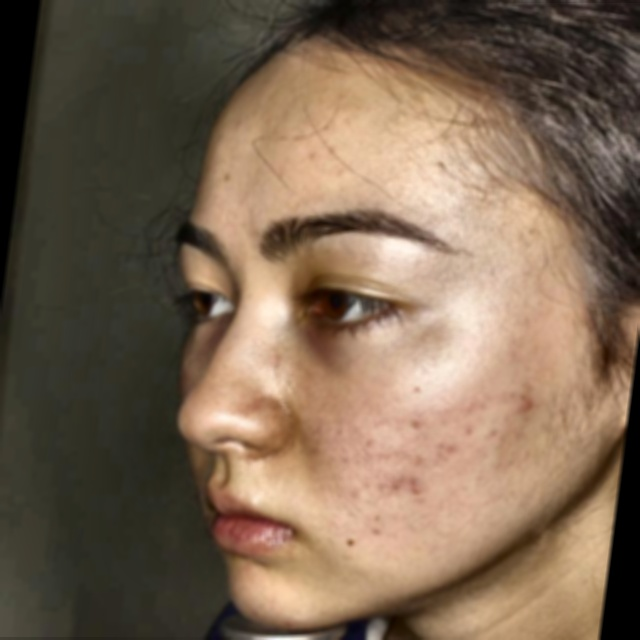comedone: (513, 390, 557, 416)
